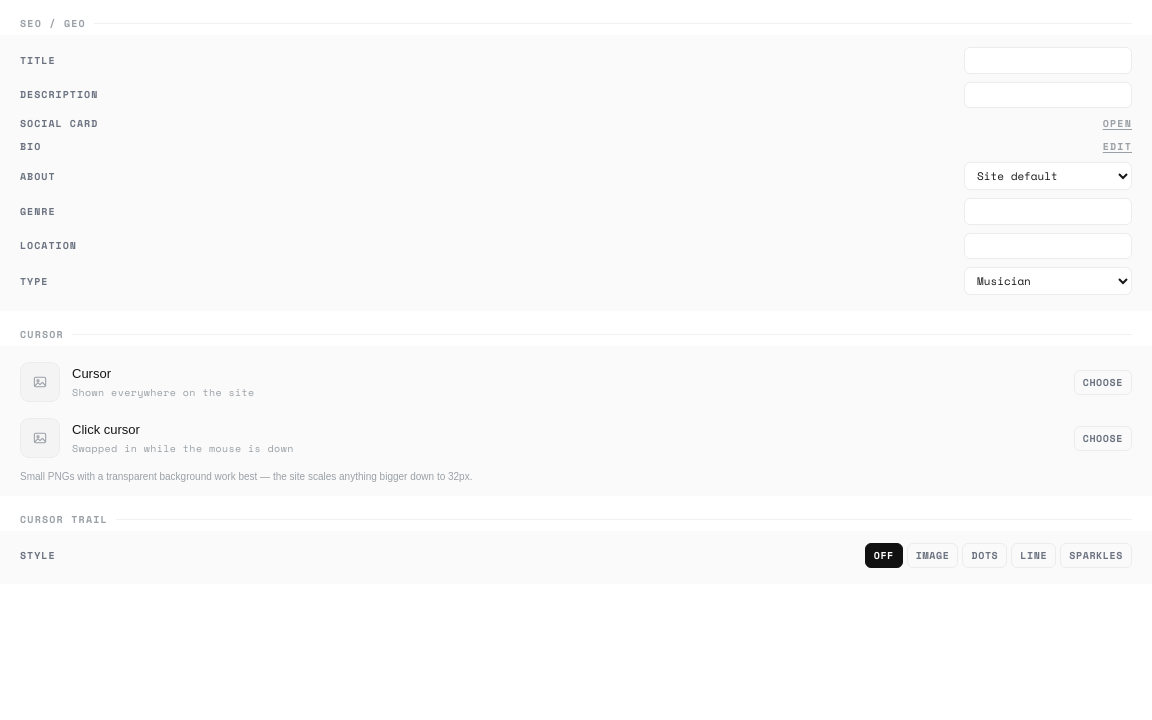
Test: SiteTools — the save loop › CRITICAL: a REFUSED save reverts the panel AND the frame
The width and height of the screenshot is (1152, 720).
What coordinates should you click on to do the following:
click the button with aria-label "Trail style: Dots"
I would click on:
 (985, 555)
Its box is [962,543,1007,568].
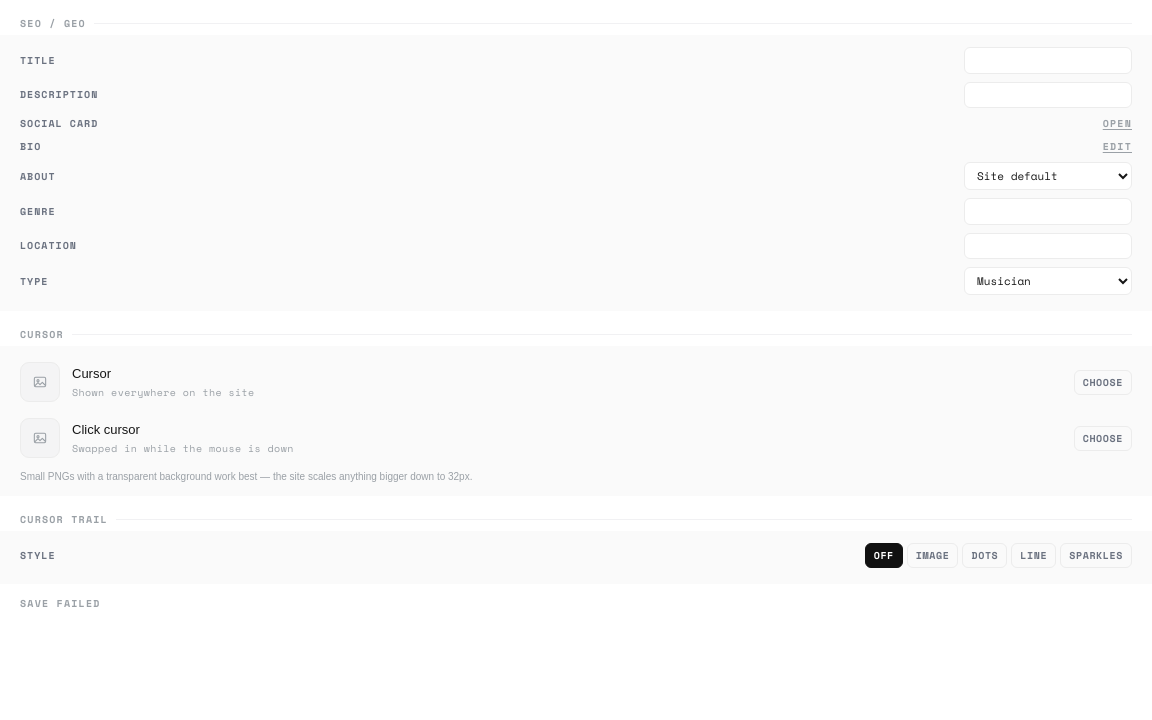
Expected: the text "Save failed" is shown, [20,596,100,611]
